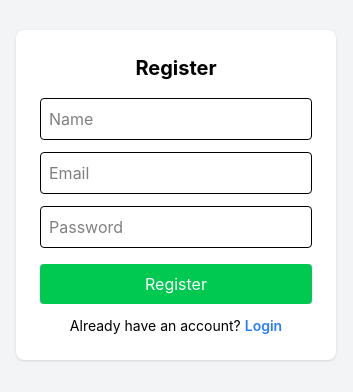
Test: Auth integration › shows error message on failed registration
Type "Ragnar" into the field with placeholder "Name" at (176, 119), box [40, 98, 312, 140]
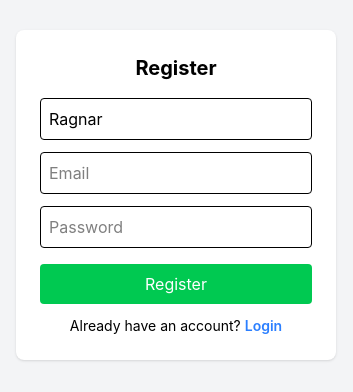
Type "existing@gmail.com" into the field with placeholder "Email" at (176, 173), box [40, 152, 312, 194]
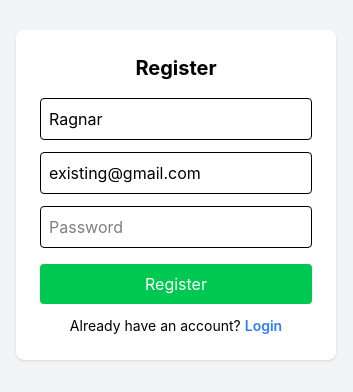
Type "sangam@123" into the password field with placeholder "Password" at (176, 227), box [40, 206, 312, 248]
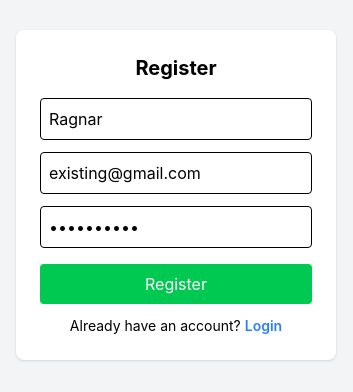
Click the button "Register" at (176, 284), box [40, 264, 312, 304]
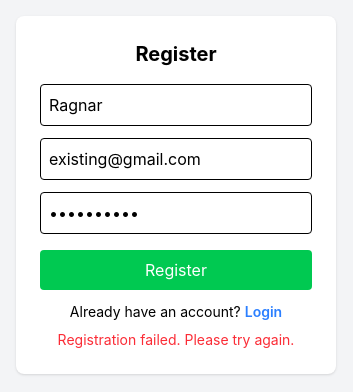
Expected: the text "Registration failed. Please try again." is shown, [40, 330, 312, 350]
